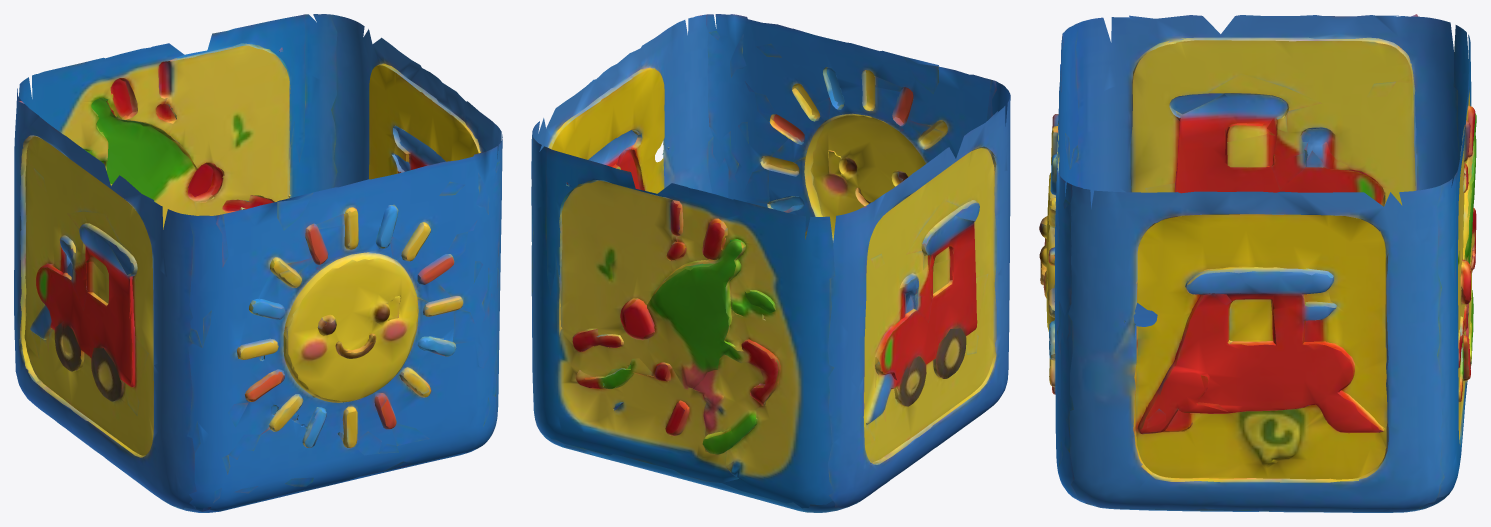
3 renders of one model, left to right at view 1: azimuth 30°, elevation 25°; view 2: azimuth 150°, elevation 25°; view 3: azimuth 270°, elevation 25°, orthographic. The views are drawn at different scales.
Parts seen in each view (by area): view 1: world; view 2: world; view 3: world.
Part boxes in pixels (box(x1,y1,x2,y2)): world: box(14, 14, 502, 512); world: box(531, 14, 1010, 512); world: box(1039, 14, 1476, 512).
Size of the model in its own units: 0.1251 by 0.1086 by 0.1292.
Materials: 1 (1 with a texture image).
